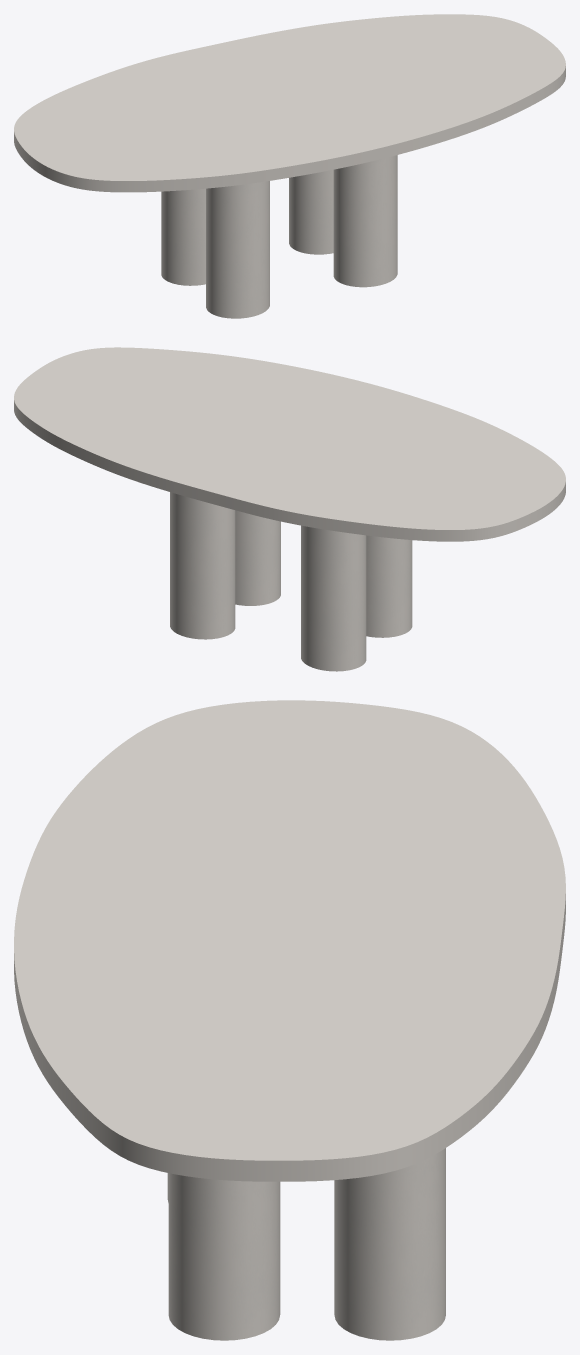
Rendered from pearlwhite_danish_standard_grove.glb.
The picture shows the model from 3 angles, top to bottom: view 1: azimuth 30°, elevation 25°; view 2: azimuth 150°, elevation 25°; view 3: azimuth 270°, elevation 25°; orthographic projection. The views are drawn at different scales.
Visible parts, largest first — view 1: standard_danish, grove; view 2: standard_danish, grove; view 3: standard_danish, grove.
Part boxes in pixels (bbox=[...]): standard_danish: bbox=[14, 14, 565, 192]; grove: bbox=[161, 155, 397, 318]; standard_danish: bbox=[14, 347, 565, 541]; grove: bbox=[170, 492, 412, 671]; standard_danish: bbox=[14, 700, 565, 1181]; grove: bbox=[167, 1148, 445, 1340].
Bounding box in the file's own units: 7.5 × 2.51 × 3.8.
Materials: 1 (1 with a texture image).
